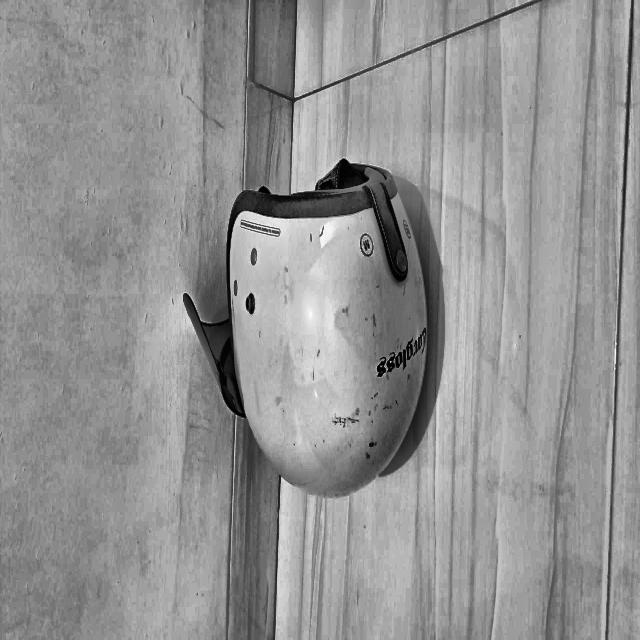Helmet: (61, 296, 277, 640)
